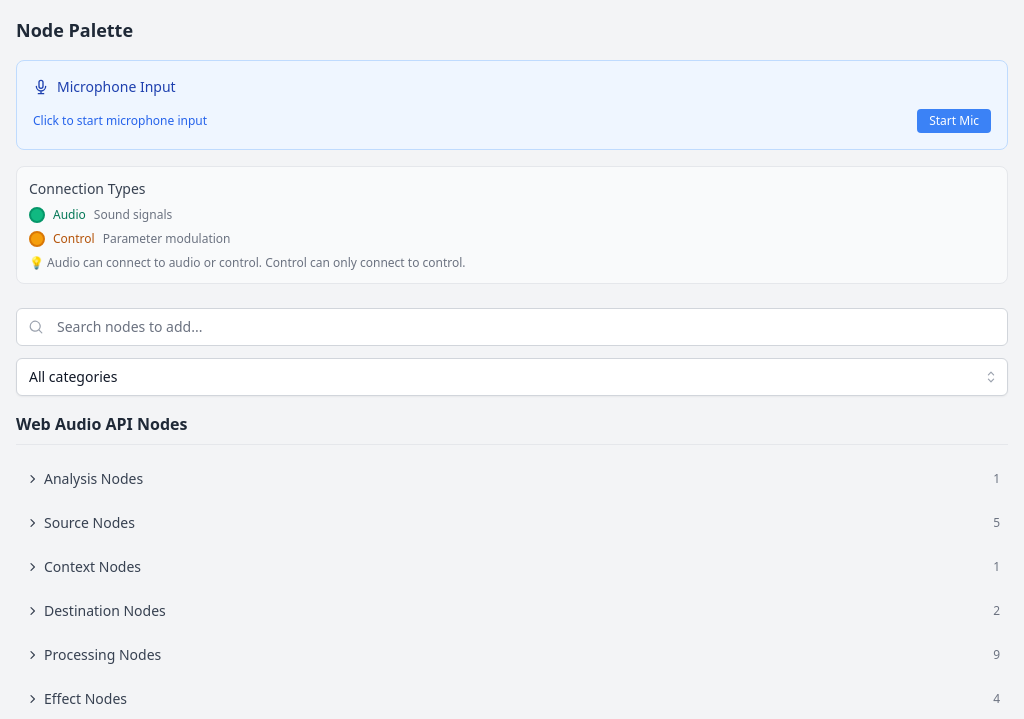
Test case: NodePalette - Filtering System › Text Search Filter › should filter nodes by name when typing in search input
Expected: the text "Oscillator" is not shown
Type "osc" to filter - this should auto-expand matching categories
Type "osc" into the search field with placeholder "Search nodes to add..." at point(512, 327), box [16, 308, 1008, 346]
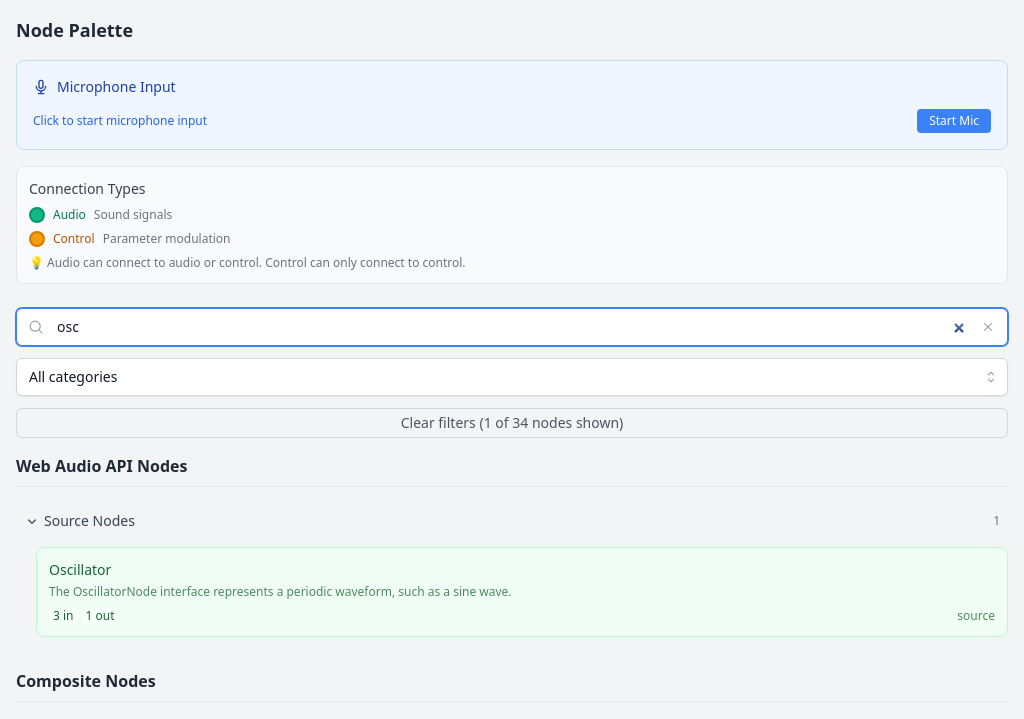
Expected: the text "Oscillator" is shown, [49, 560, 111, 579]
Clear and search for "gain"
Replace the text in the search field with placeholder "Search nodes to add..." with "gain" at point(512, 327), box [16, 308, 1008, 346]
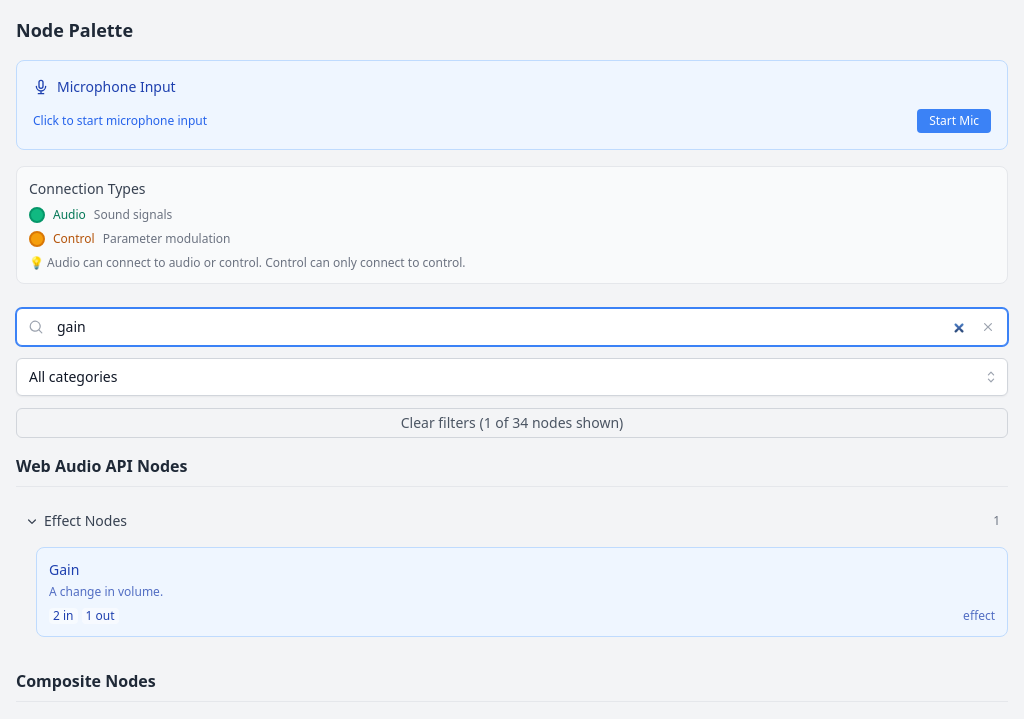
Expected: the text "Oscillator" is not shown
Expected: the text "Gain" is shown, [49, 560, 79, 579]
